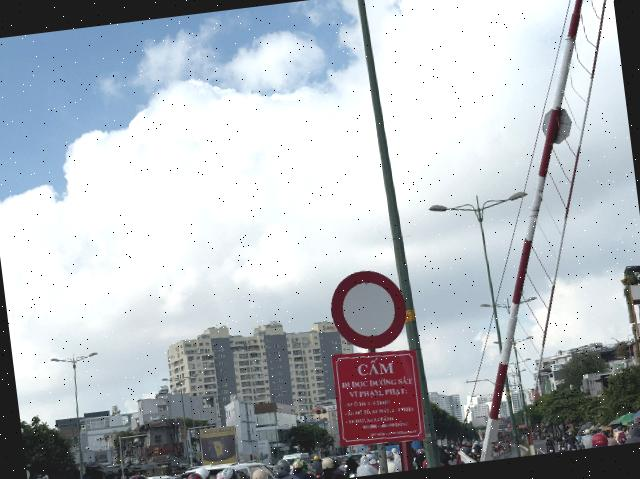duong-cam: (326, 266, 411, 353)
